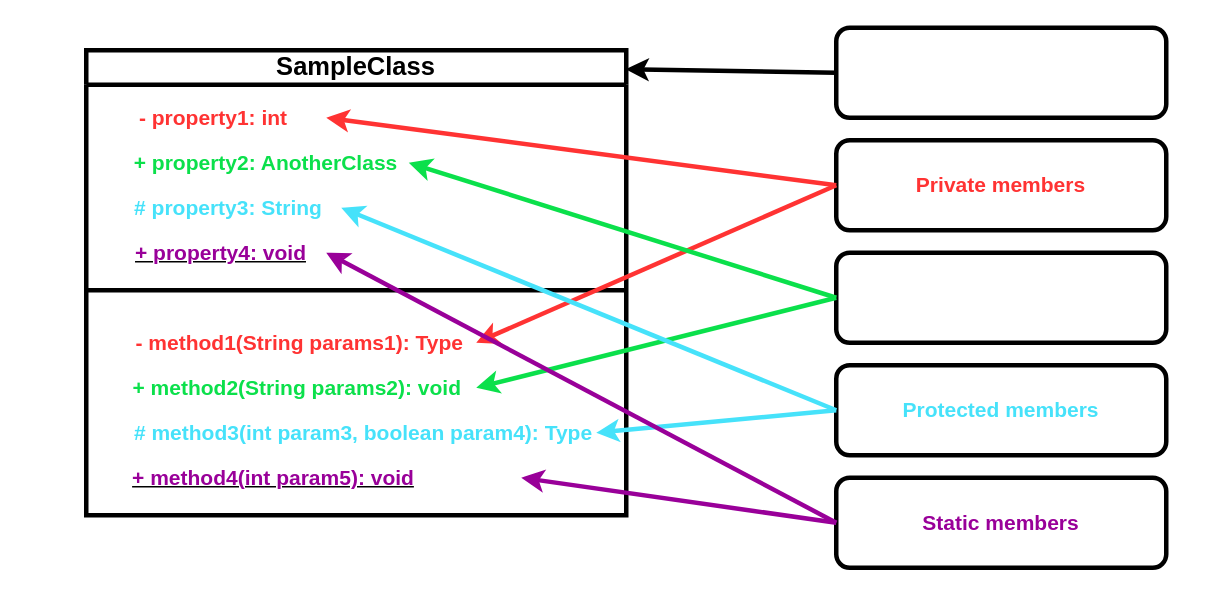
This 1214x596 diagram has some shape labels left out. Here are the shapes that lost their labels. From the top down, the centre of each, then its label:
At point (1000, 72): "Class name appears here".
At point (1000, 297): "Public members".
